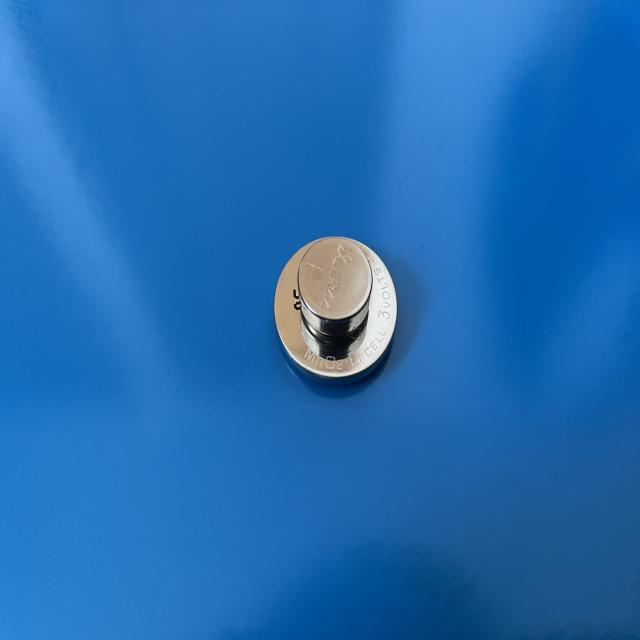COIN: (270, 236, 400, 388), (297, 238, 374, 337)
